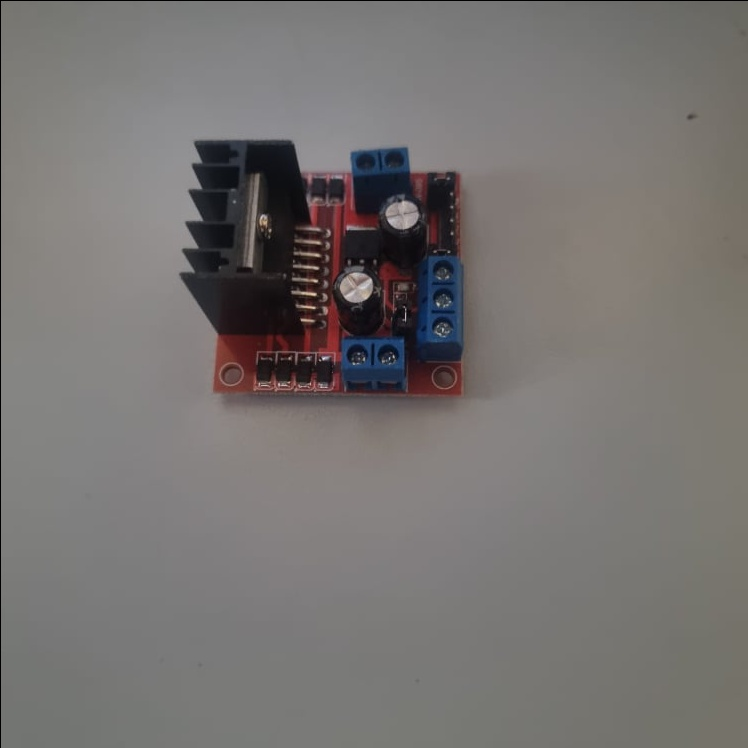MOTOR: (178, 135, 467, 399)
